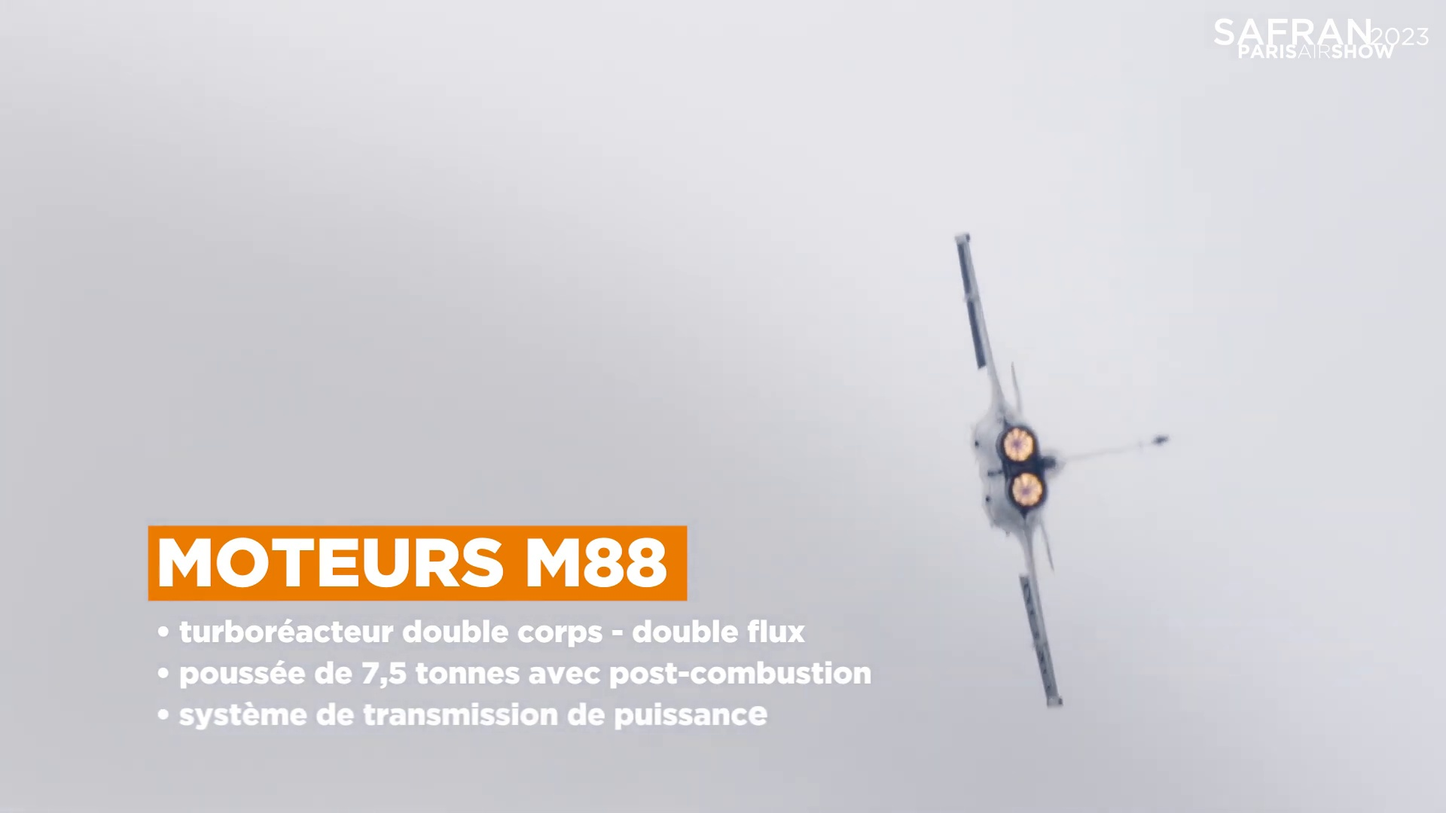Rafale: (949, 225, 1177, 714)
